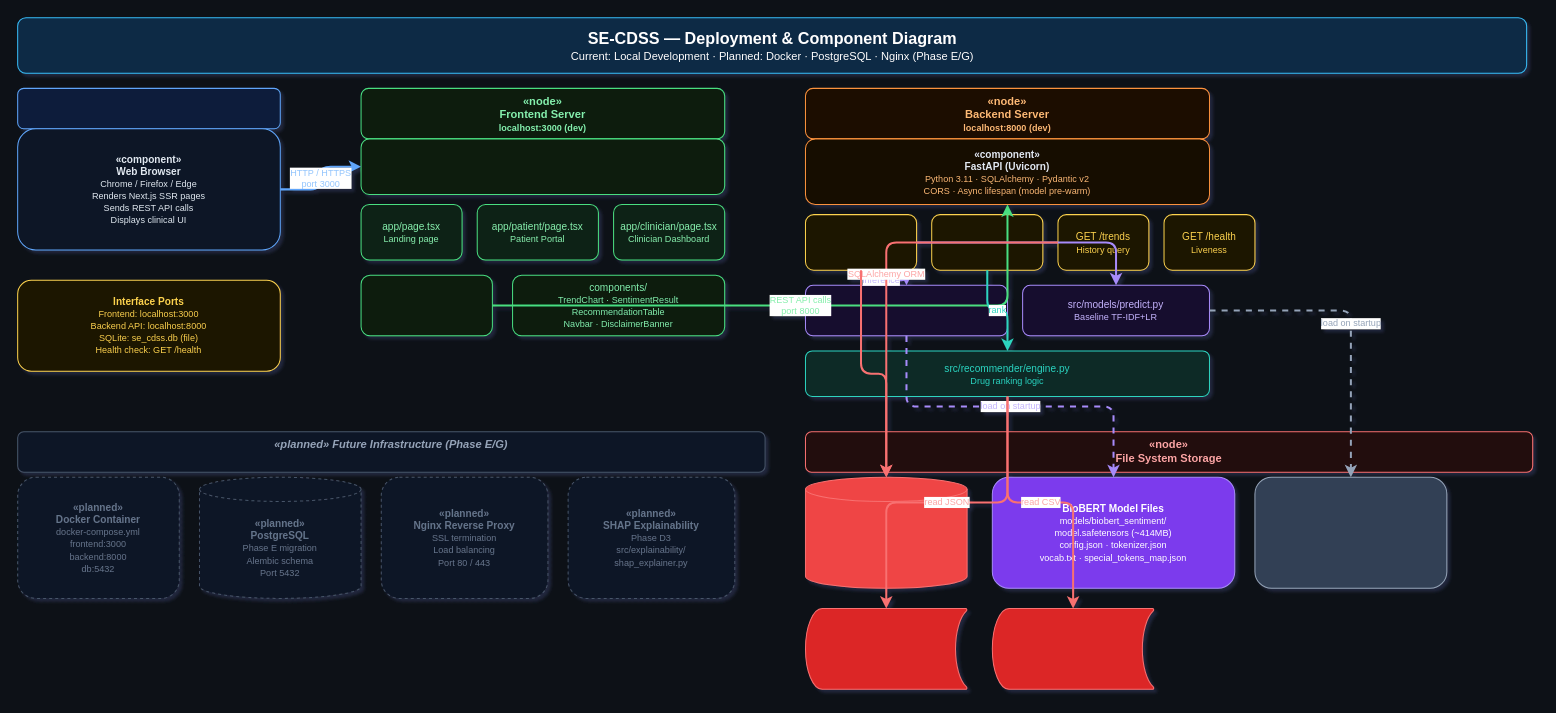
This 1556x713 diagram has some shape labels left out. The centre of each missing label's shape, as x and y in pixels:
"Baseline Model Files models/baseline/ tfidf_vectorizer.pkl lr_classifier.pkl" goes at pixel 1350 532.
"Drug CSV Files data/drugs/ Per-condition drug stats" goes at pixel 1072 648.
"EHR JSON data/simulated_ehr.json 50 patient records" goes at pixel 885 648.
"lib/api.ts Typed API client All fetch calls" goes at pixel 426 305.
"POST /feedback Predict + log" goes at pixel 860 242.
"POST /recommend Drug ranking" goes at pixel 987 242.
"src/models/predict_bert.py BioBERT inference" goes at pixel 905 310.
"«component» Next.js 14 App Router TypeScript · Tailwind CSS · Recharts" goes at pixel 542 166.
"«database» SQLite se_cdss.db PredictionLog table ~287+ records seeded" goes at pixel 885 532.
"«node» Client Device" goes at pixel 148 108.
